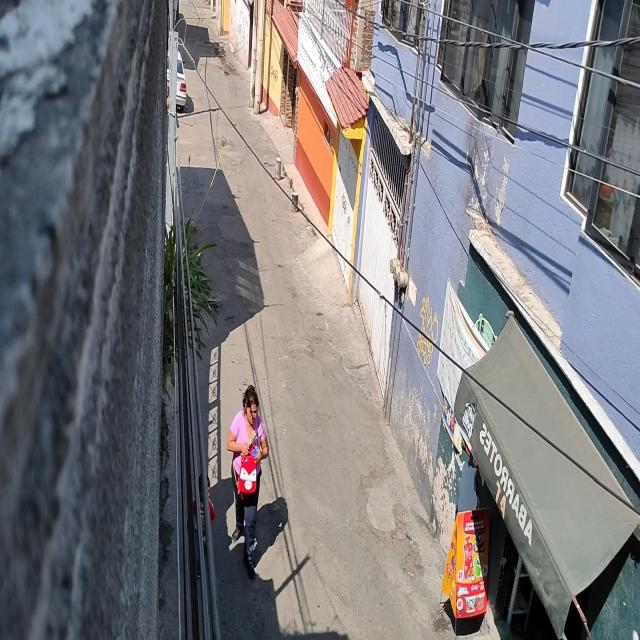adult: (227, 382, 271, 582)
